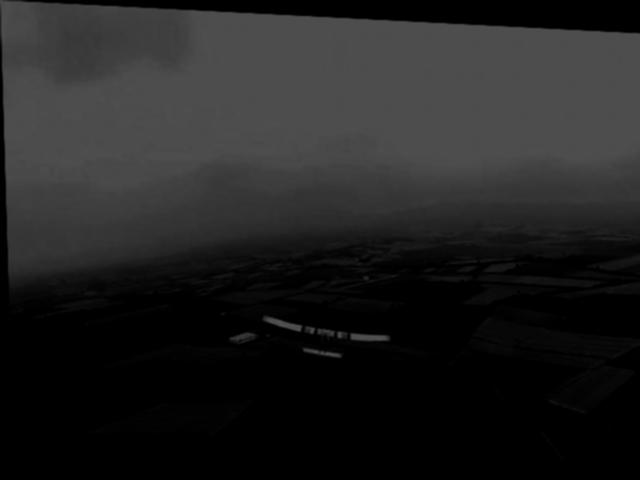hedef: (252, 307, 396, 365)
